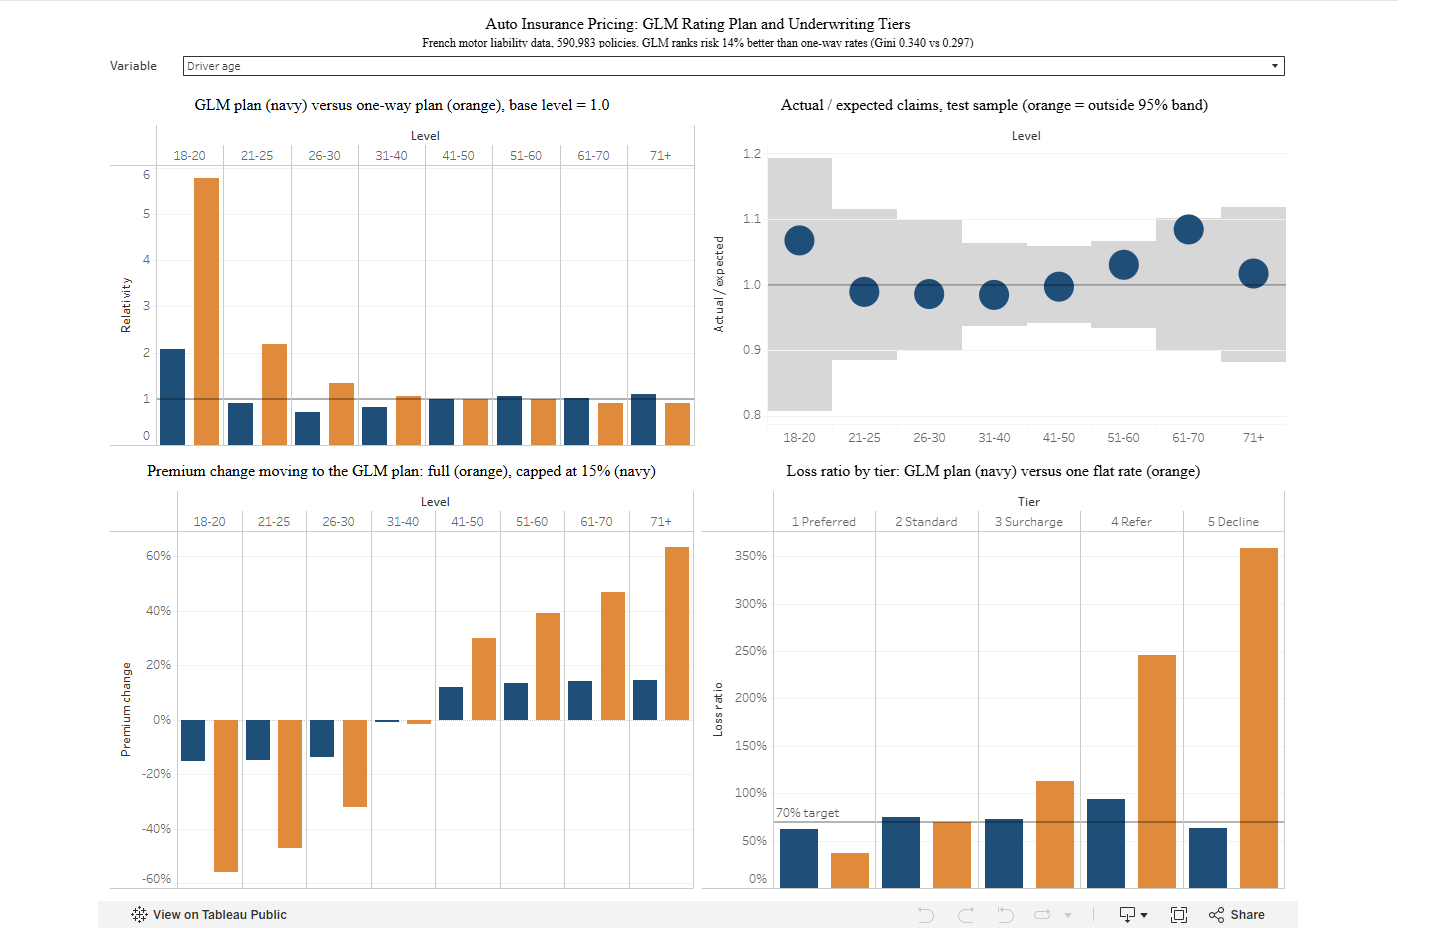

Layout of this report page (visuals, bound fields, positions):
{"tool":"tableau","page":{"name":"Pricing dashboard","canvas":[1200,900],"ordinal":0},"visuals":[{"type":"text","box":[8,8,1184,43]},{"type":"filter","title":"Rating Factors","param":"[federated.1i5d4aq0cy7blf16c8jxr0ffrryp].[none:variable:nk]","box":[8,51,1184,32]},{"type":"worksheet","title":"Rating Factors","mark":"Automatic","cols":["level"],"box":[8,83,593.3,366]},{"type":"worksheet","title":"Actual vs. Expected","mark":"Circle","rows":["claims_ae"],"cols":["level"],"box":[601.3,83,590.7,366]},{"type":"worksheet","title":"Premium change by segment","mark":"Automatic","cols":["level"],"box":[8,449,592,443]},{"type":"worksheet","title":"Underwriting tiers","mark":"Automatic","cols":["tier"],"box":[600,449,592,443]}]}

Visuals, with their boxes in screenshot pixels (x1, y1, x2, y2):
text: locate(276, 23, 1450, 66)
"Rating Factors" filter: locate(276, 66, 1450, 99)
"Rating Factors" worksheet: locate(276, 99, 873, 467)
"Actual vs. Expected" worksheet (Circle marks): locate(873, 99, 1450, 467)
"Premium change by segment" worksheet: locate(276, 467, 872, 913)
"Underwriting tiers" worksheet: locate(872, 467, 1450, 913)
